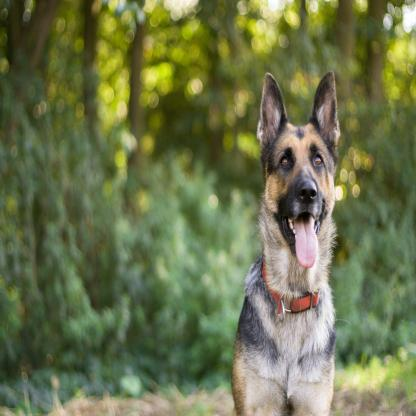dog: (227, 69, 337, 416)
